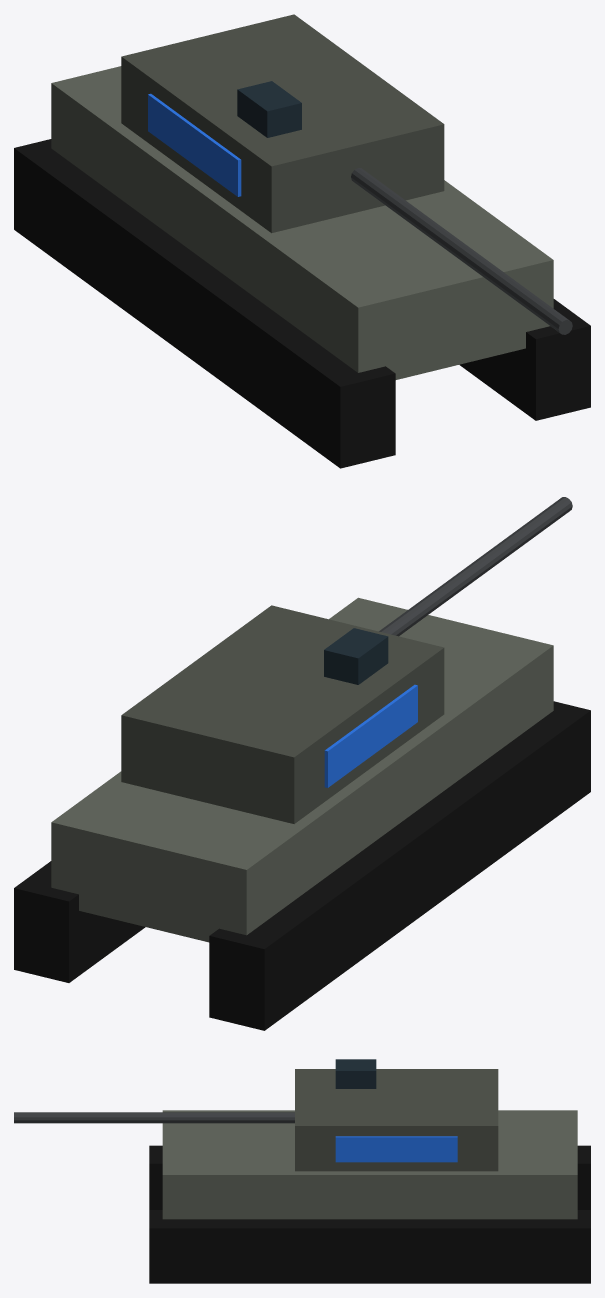
The model's file is eu_heavy_mbt.glb.
The picture shows the model from 3 angles, top to bottom: view 1: azimuth 30°, elevation 25°; view 2: azimuth 150°, elevation 25°; view 3: azimuth 270°, elevation 25°; orthographic projection. The views are drawn at different scales.
Parts seen in each view (by area): view 1: hull, track_l, turret, track_r, barrel, team_panel_l, sight; view 2: hull, turret, track_l, track_r, team_panel_l, barrel, sight; view 3: hull, track_r, turret, barrel, team_panel_r, track_l, sight.
Boxes of the visible parts, x1,y1,x2,y2 form: hull: (51,66,553,379); track_l: (14,139,395,468); turret: (121,14,444,233); track_r: (459,299,590,420); barrel: (351,168,572,334); team_panel_l: (148,93,241,196); sight: (237,81,301,137); hull: (51,597,553,942); turret: (121,605,444,823); track_l: (209,701,590,1030); track_r: (14,861,145,982); team_panel_l: (324,684,417,787); barrel: (379,497,572,636); sight: (324,628,388,684); hull: (162,1110,577,1219); track_r: (149,1210,590,1283); turret: (295,1069,498,1171); barrel: (14,1112,294,1123); team_panel_r: (335,1136,457,1162); track_l: (149,1145,590,1209); sight: (335,1059,376,1088).
Size of the model in its own units: 3.9 by 3.58 by 11.5.
